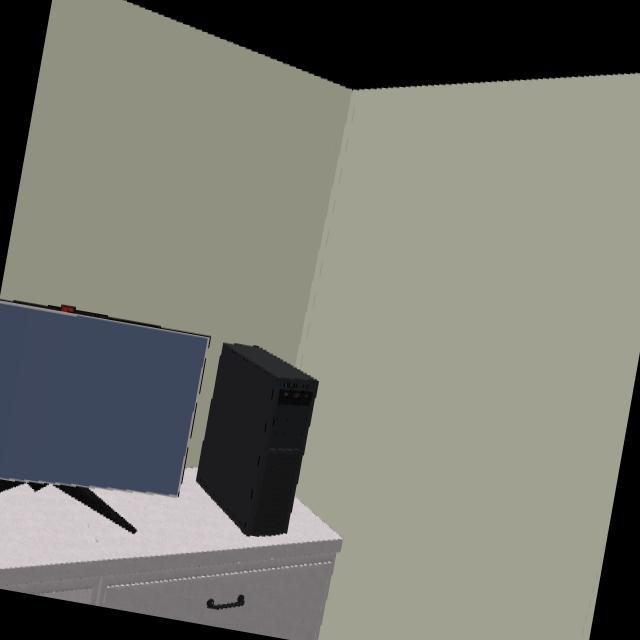monitor: (0, 300, 208, 498)
table: (0, 469, 340, 640)
